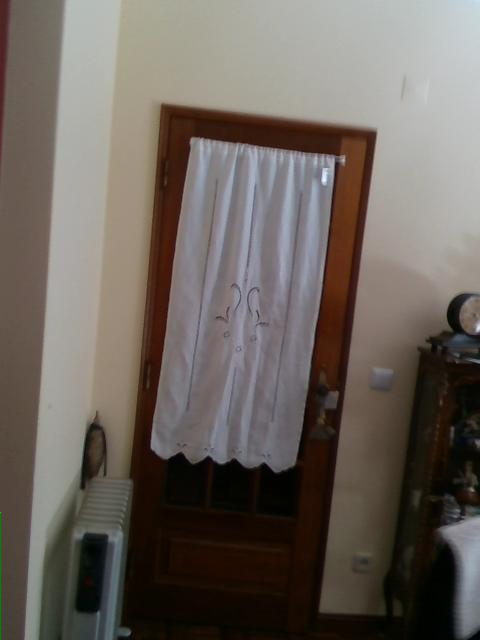door: (118, 100, 378, 639)
